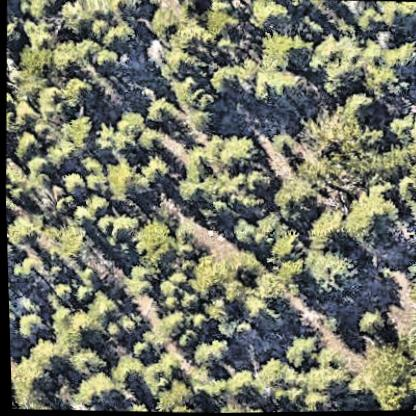tree-top: (317, 32, 415, 104), (251, 27, 309, 102), (361, 341, 416, 412), (305, 198, 376, 251), (341, 184, 401, 244), (295, 242, 358, 297), (102, 153, 154, 206), (306, 112, 359, 163), (133, 217, 178, 265), (214, 129, 261, 174), (188, 254, 231, 298), (308, 210, 351, 252), (202, 0, 246, 41), (248, 355, 289, 396), (278, 329, 320, 368), (76, 367, 117, 406), (46, 222, 87, 261), (246, 0, 294, 32), (66, 342, 106, 379), (300, 368, 343, 400), (50, 36, 88, 72), (219, 178, 262, 209), (189, 337, 229, 370), (114, 107, 149, 144), (6, 211, 42, 246), (226, 214, 264, 247), (209, 63, 244, 97), (272, 182, 307, 216), (43, 135, 78, 169), (16, 360, 47, 398), (374, 1, 416, 28), (138, 360, 172, 393), (247, 275, 283, 306), (17, 45, 49, 79), (371, 152, 406, 183), (223, 369, 256, 401), (59, 77, 91, 109), (36, 85, 69, 115), (127, 263, 157, 296), (13, 311, 44, 342), (165, 375, 196, 405), (93, 49, 126, 77), (236, 300, 272, 325), (65, 307, 94, 338), (183, 149, 214, 178), (354, 309, 385, 337), (170, 75, 198, 106), (13, 130, 42, 159), (166, 50, 195, 79), (228, 252, 257, 281), (384, 113, 412, 143), (151, 9, 181, 37), (33, 344, 66, 369), (143, 99, 173, 126), (174, 177, 201, 207), (60, 166, 88, 194), (270, 235, 299, 262), (60, 6, 91, 31), (115, 308, 143, 335), (398, 157, 416, 198), (17, 96, 44, 123), (137, 125, 165, 151), (69, 116, 92, 147), (22, 0, 59, 19), (83, 190, 110, 216), (114, 352, 140, 379), (24, 150, 50, 176), (104, 22, 129, 49), (178, 24, 204, 49), (5, 158, 28, 185), (216, 399, 257, 414), (111, 217, 133, 244), (361, 124, 386, 147), (193, 381, 218, 403), (91, 295, 113, 320), (159, 313, 186, 333), (17, 253, 40, 276), (185, 103, 208, 126), (357, 10, 380, 33), (188, 310, 211, 332), (128, 338, 151, 360), (348, 94, 370, 117), (175, 328, 196, 351), (145, 161, 169, 181), (73, 204, 93, 227), (52, 281, 72, 304), (52, 192, 72, 215), (90, 17, 111, 38), (93, 215, 112, 238), (126, 397, 153, 413), (76, 281, 95, 302), (77, 263, 96, 284), (178, 291, 196, 313), (85, 170, 103, 191), (167, 269, 186, 288), (231, 321, 252, 338), (162, 294, 182, 311), (161, 282, 177, 297)
